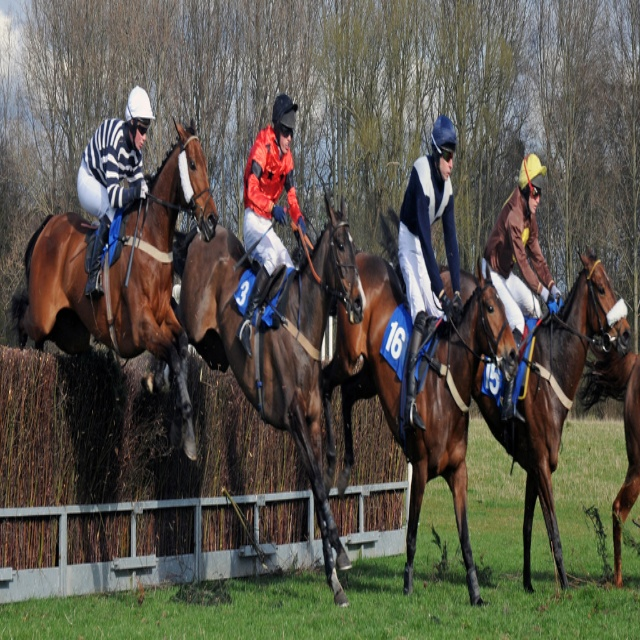Horse: (4, 116, 639, 608)
